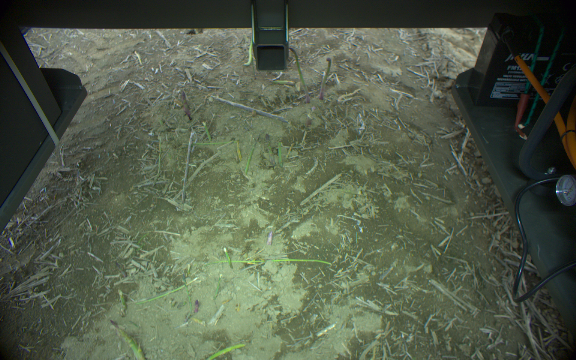aspa: (136, 276, 198, 305), (109, 319, 146, 360), (290, 48, 308, 103), (201, 342, 246, 360), (317, 57, 333, 101), (242, 136, 258, 174), (182, 274, 192, 314), (116, 287, 129, 317), (180, 91, 192, 121), (264, 134, 274, 163), (244, 35, 252, 68), (274, 140, 284, 166), (201, 121, 212, 142), (222, 247, 232, 267)
